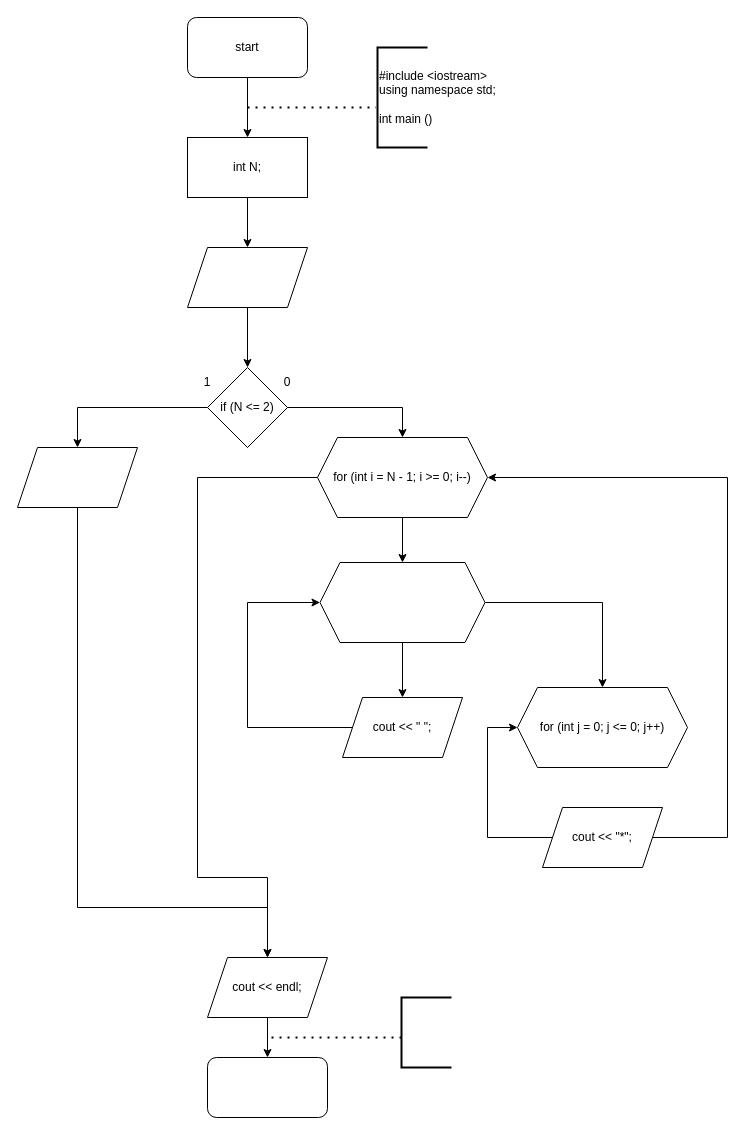
Some shapes in this 753 by 1135 pixel diagram are drawn without their labels. Each missing label, with the box of its shape:
cin >> N;: (186, 246, 308, 308)
cout << "error";: (16, 446, 138, 508)
end: (206, 1056, 328, 1118)
for (int x = 1; x < i - N; x++): (319, 562, 485, 642)
return 0;: (400, 996, 452, 1068)
